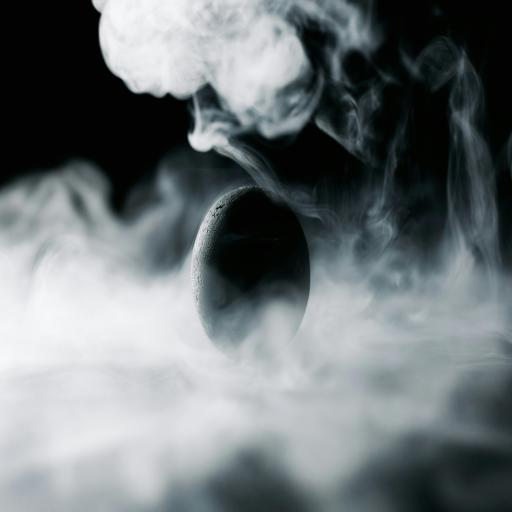smoke: (88, 0, 365, 133)
